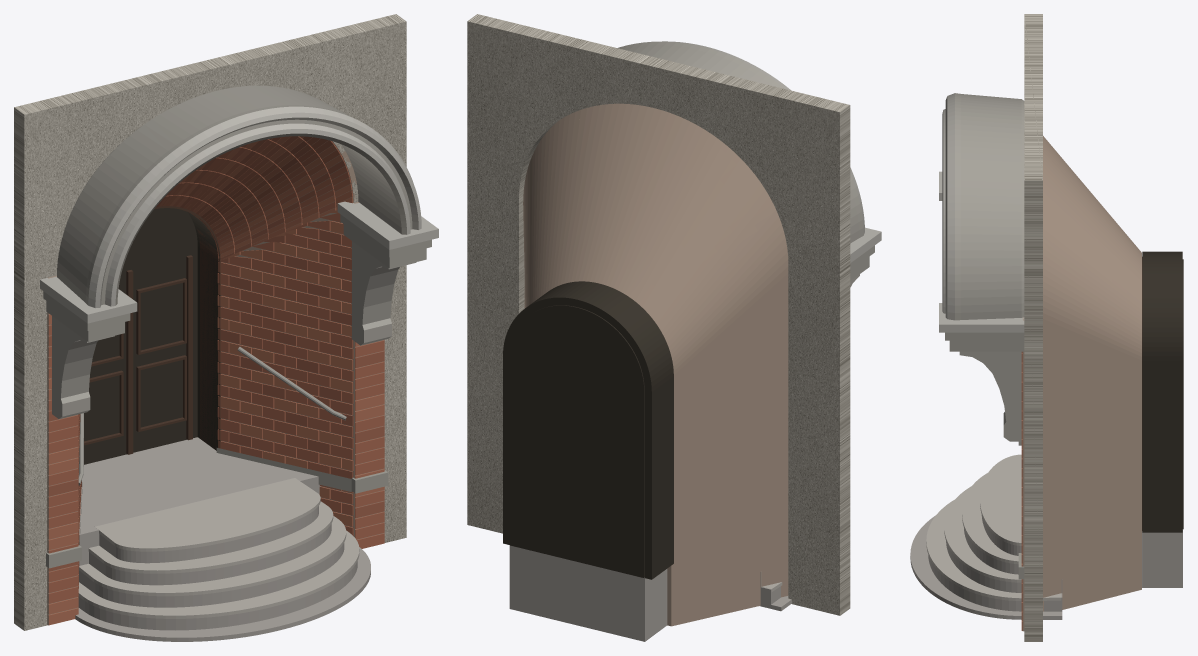
Rendered from changning-customs-commissioner-east-portal-raw.glb.
The picture shows the model from 3 angles, left to right: view 1: azimuth 30°, elevation 25°; view 2: azimuth 150°, elevation 25°; view 3: azimuth 270°, elevation 25°; orthographic projection. The views are drawn at different scales.
Parts seen in each view (by area): view 1: 上海海关税务司住宅东门砖砌喇叭口与石券罩; view 2: 上海海关税务司住宅东门砖砌喇叭口与石券罩; view 3: 上海海关税务司住宅东门砖砌喇叭口与石券罩.
Boxes of the visible parts, x1,y1,x2,y2 form: 上海海关税务司住宅东门砖砌喇叭口与石券罩: (14,14,438,641); 上海海关税务司住宅东门砖砌喇叭口与石券罩: (467,14,881,641); 上海海关税务司住宅东门砖砌喇叭口与石券罩: (910,14,1183,641).
Size of the model in its own units: 3.32 by 4.29 by 2.3.
Materials: 17 (1 with a texture image).
